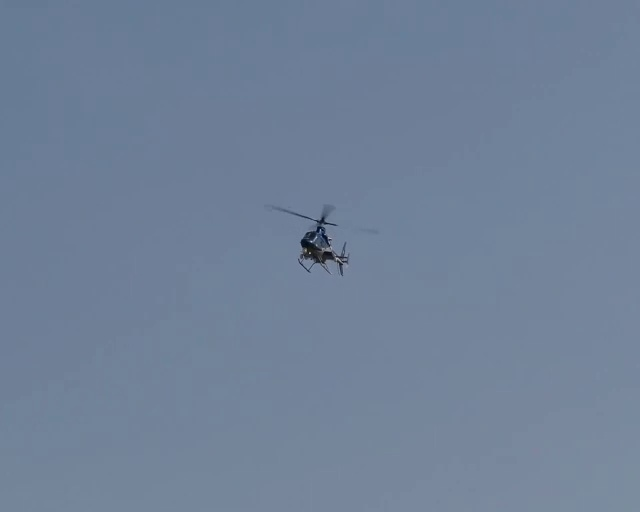HELICOPTER: (264, 201, 381, 276)
